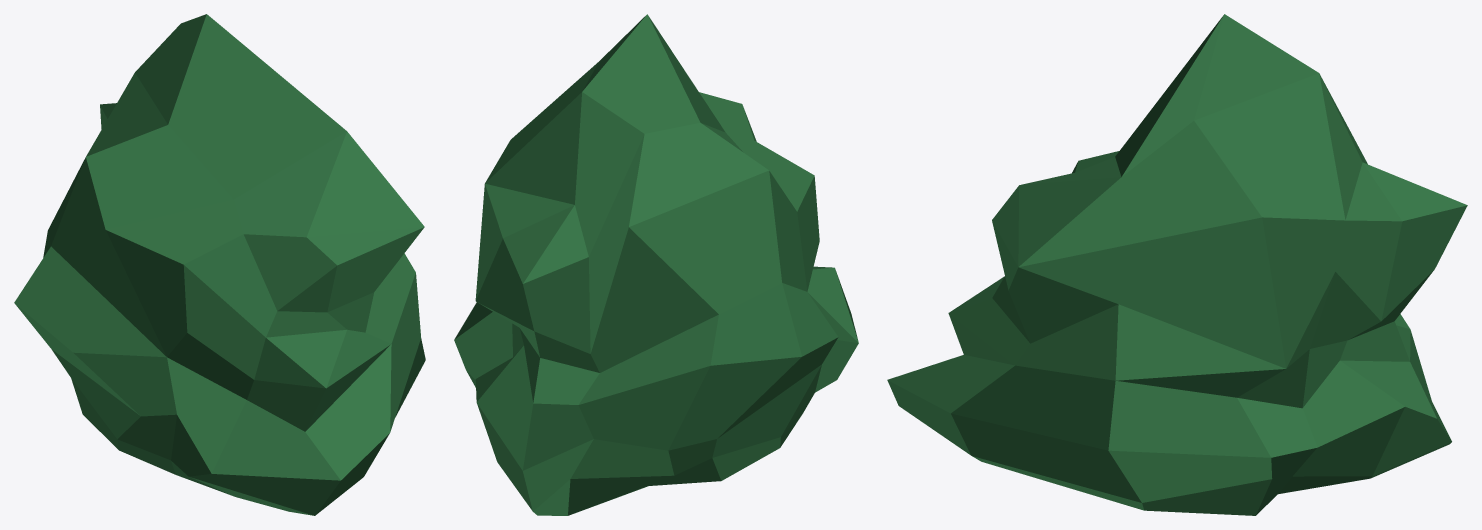
Rendered from Bush3.fbx.
The picture shows the model from 3 angles, left to right: view 1: azimuth 30°, elevation 25°; view 2: azimuth 150°, elevation 25°; view 3: azimuth 270°, elevation 25°; orthographic projection. The views are drawn at different scales.
Parts seen in each view (by area): view 1: Bush.3; view 2: Bush.3; view 3: Bush.3.
Part boxes in pixels (left/top/right/bottom): Bush.3: left=14, top=14, right=425, bottom=515; Bush.3: left=454, top=14, right=858, bottom=515; Bush.3: left=887, top=14, right=1467, bottom=515.
Bounding box in the file's own units: 501 × 611 × 663.
